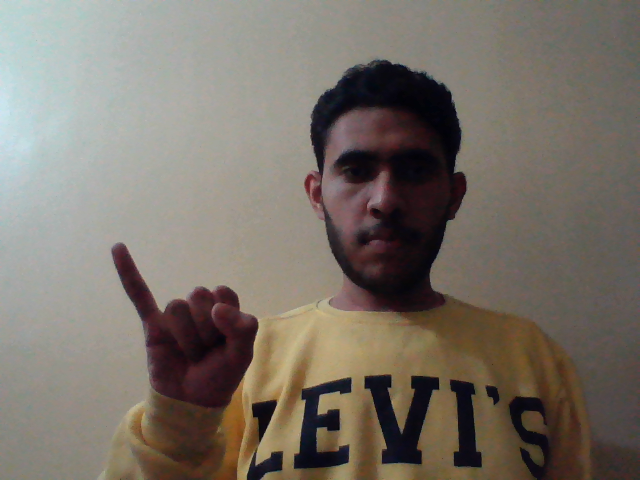I: (108, 231, 265, 428)
